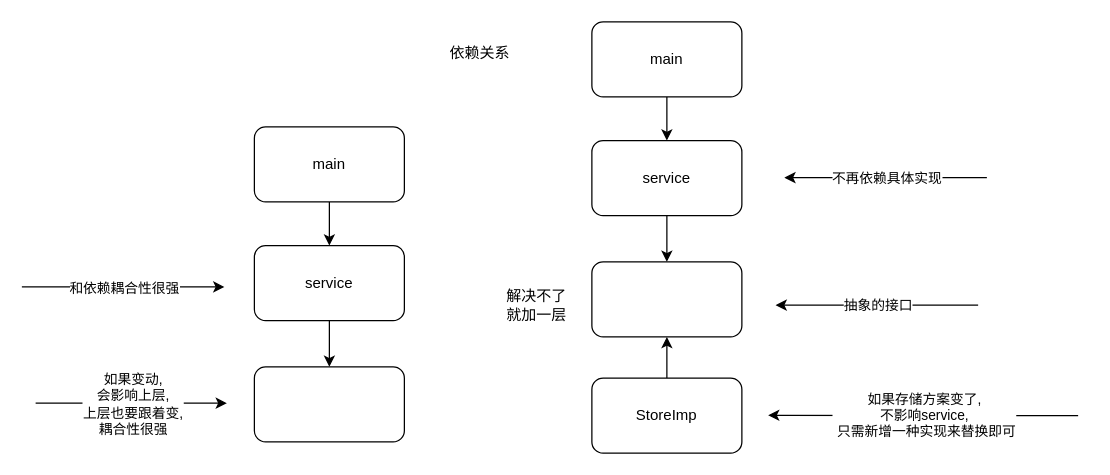
Some shapes in this 1110 by 475 pixel diagram are drawn without their labels. Each missing label, with the box of its shape:
localStorage: (253, 366, 404, 442)
Store: (591, 261, 742, 337)
